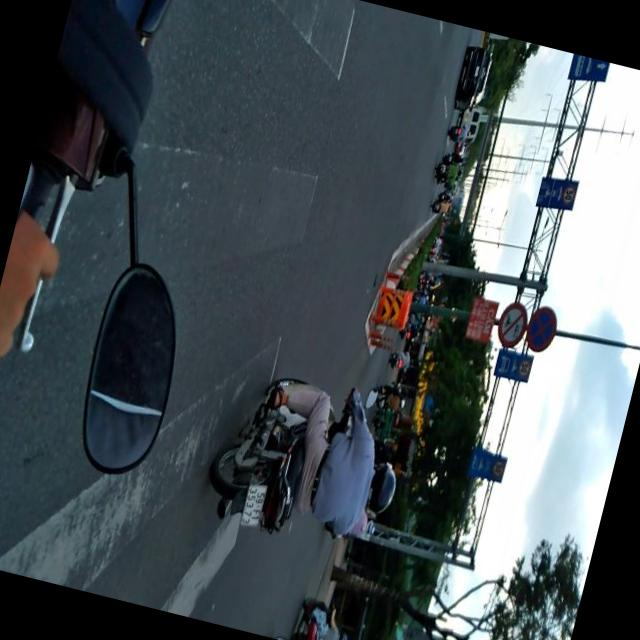P-105: (493, 298, 531, 350)
P-130: (518, 301, 562, 356)
